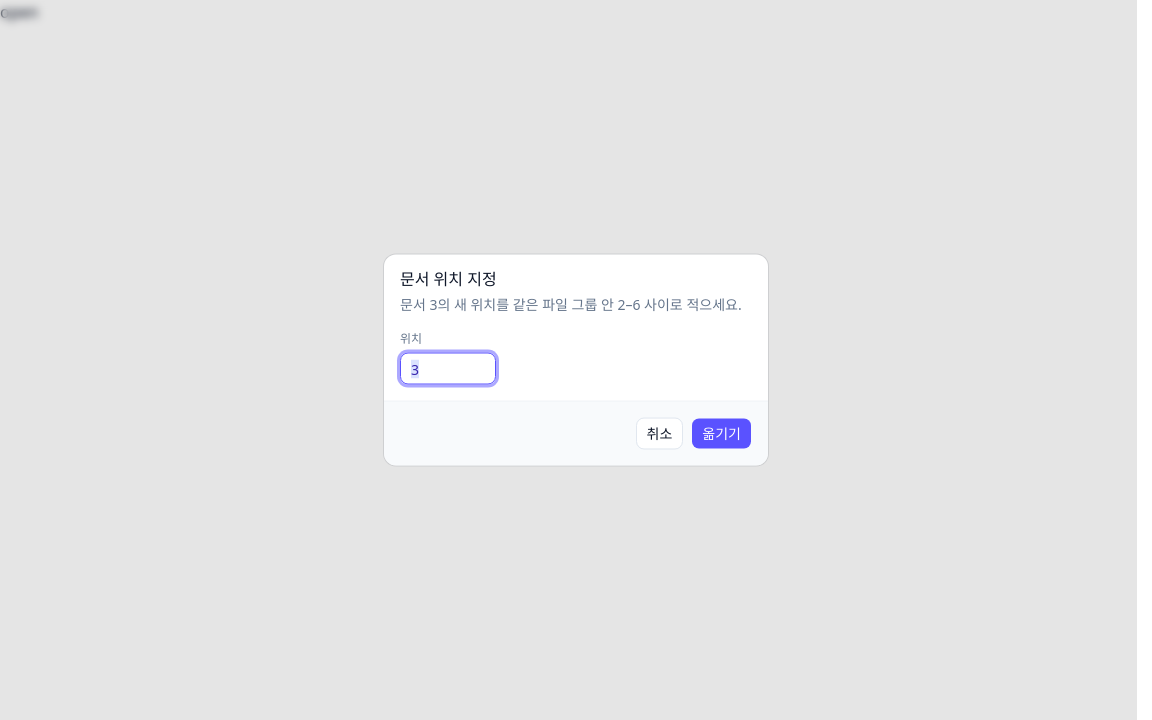
it: DocumentPositionDialog 검사 › 빈 값 이면 오류를 보이고 닫지 않는다
Step 1. Clear the field with test id "job-review-document-position-dialog-input" → [448, 368], box [400,352,496,384]
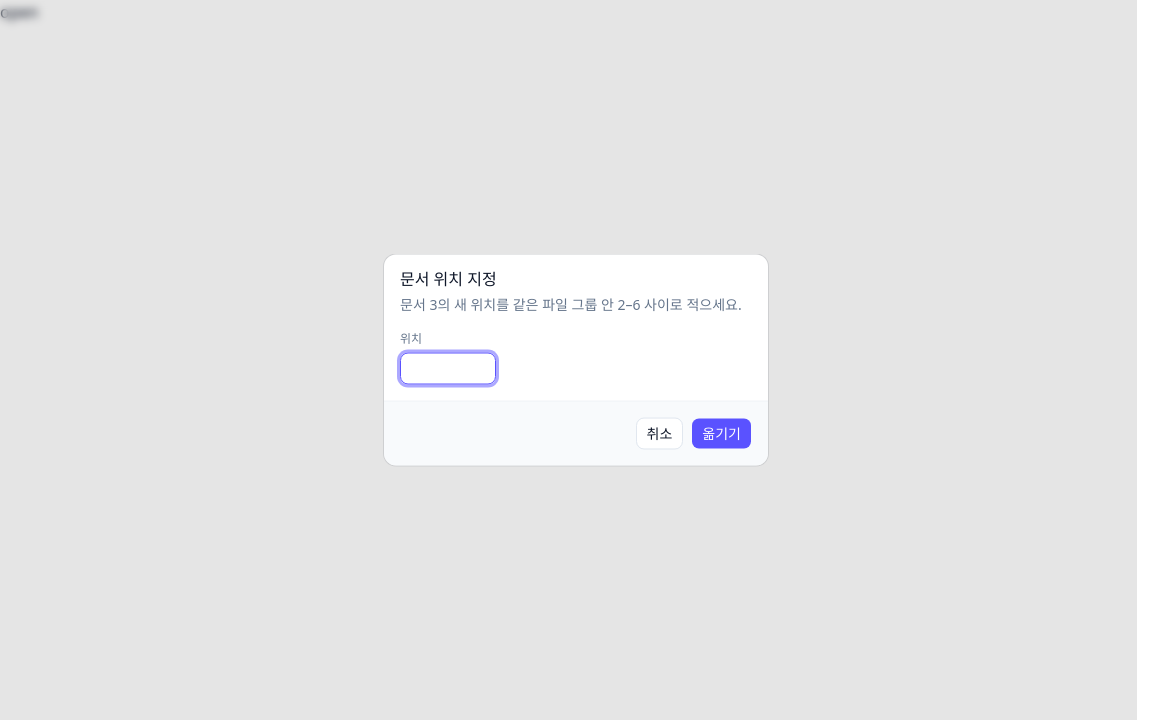
Step 2. Click the button with test id "job-review-document-position-dialog-button-move" → [722, 434], box [691,418,752,450]
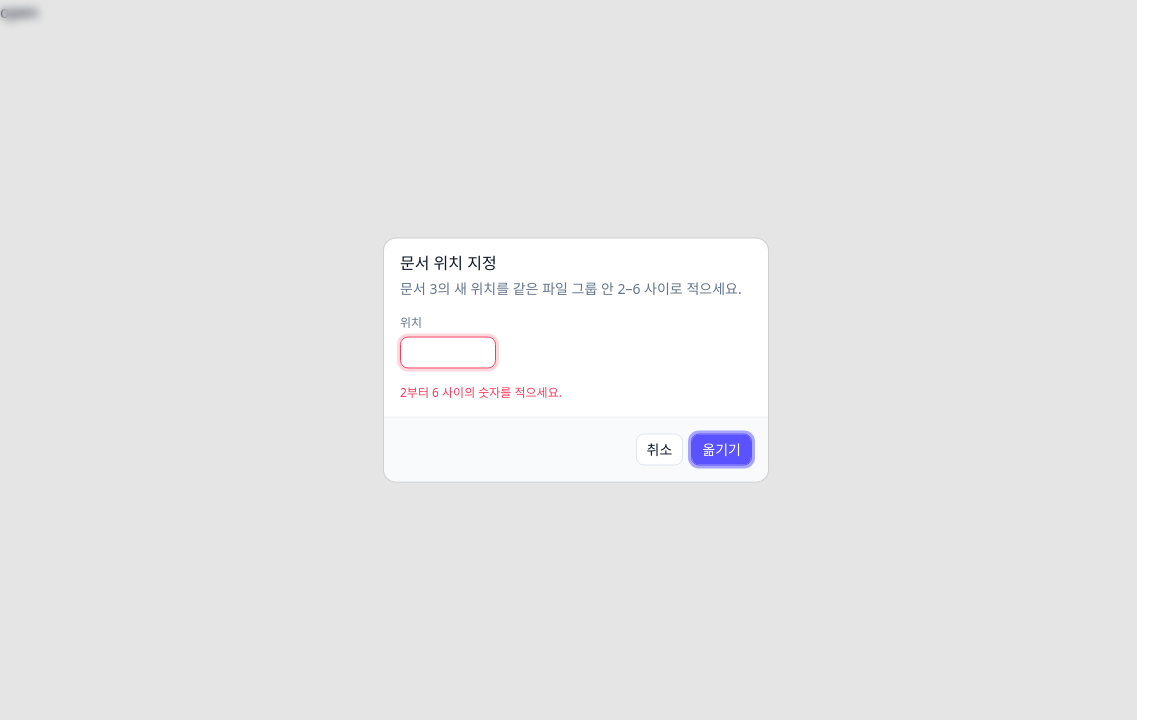
Check: the dialog with test id "job-review-document-position-dialog" is shown, box [384,238,768,482]
Check: the message reads "2부터 6 사이의 숫자를 적으세요.", box [400,384,562,400]
